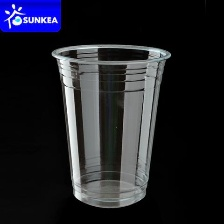glass: (48, 41, 178, 213)
